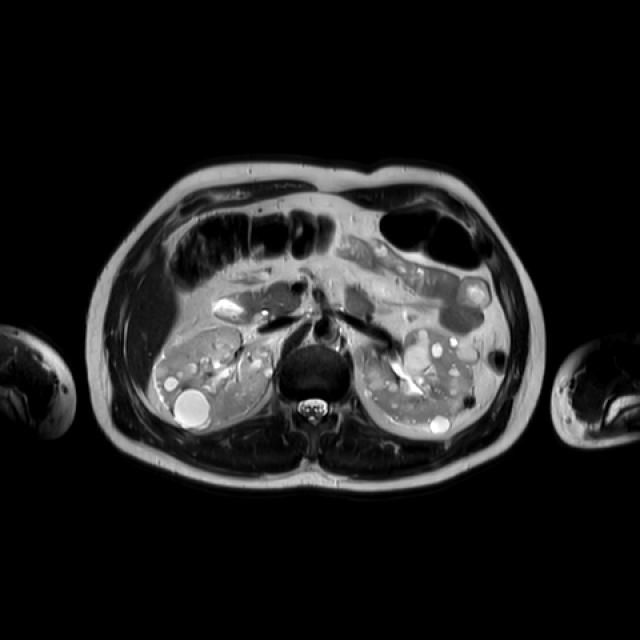sag: (153, 325, 275, 431)
sol: (352, 328, 478, 433)
